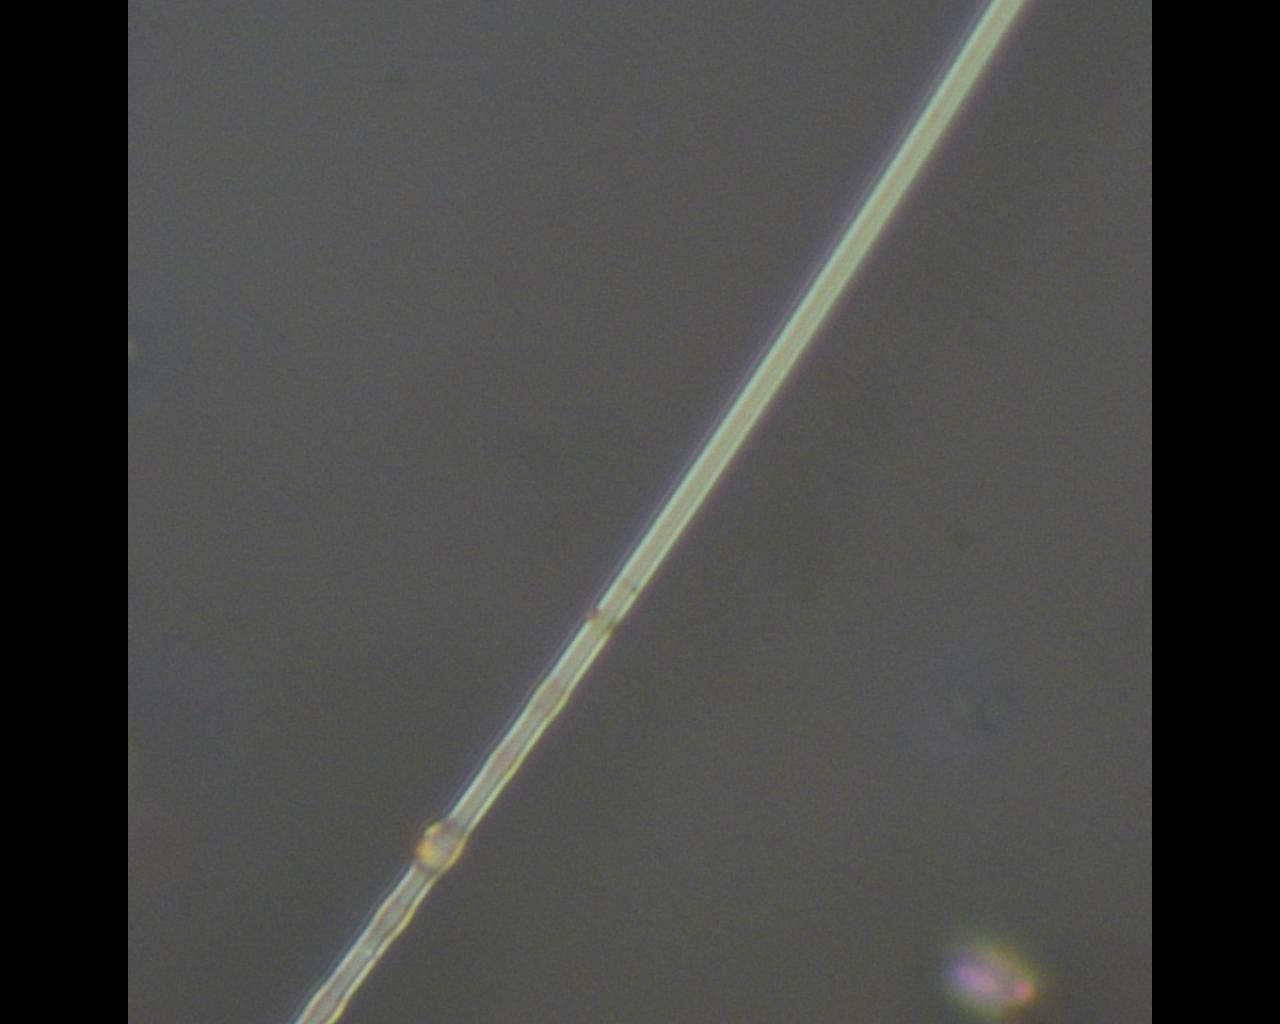fiber: (127, 360, 1151, 724)
